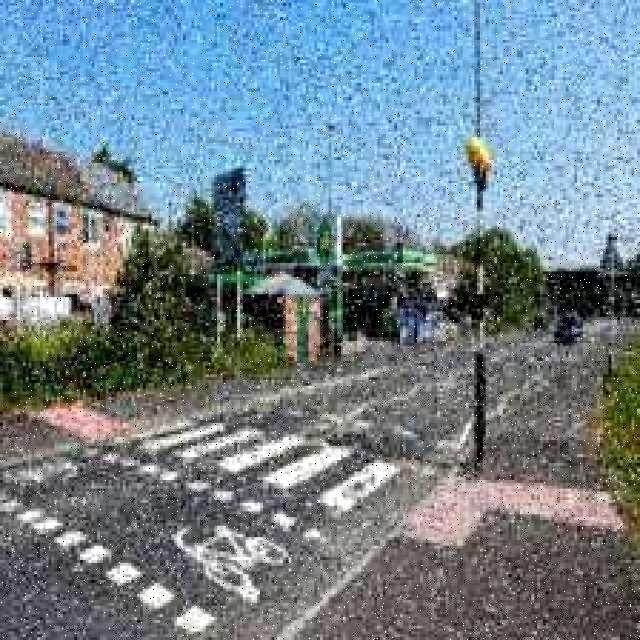crosswalk: (138, 407, 419, 544)
